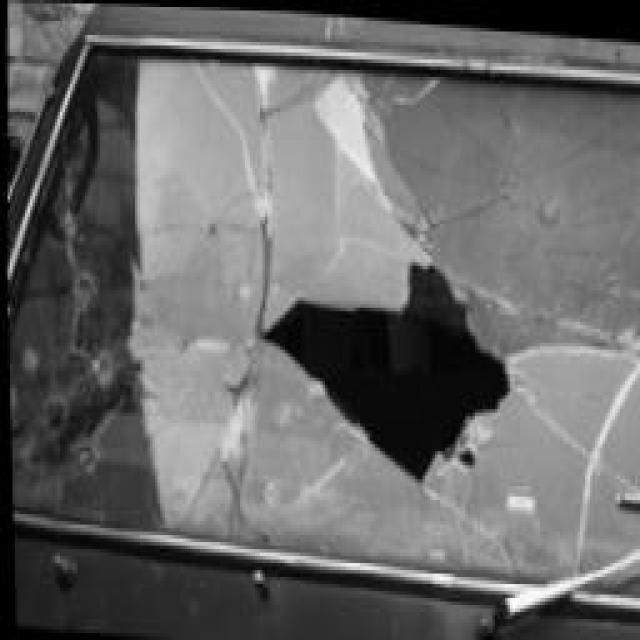Windshield: (0, 28, 639, 619)
